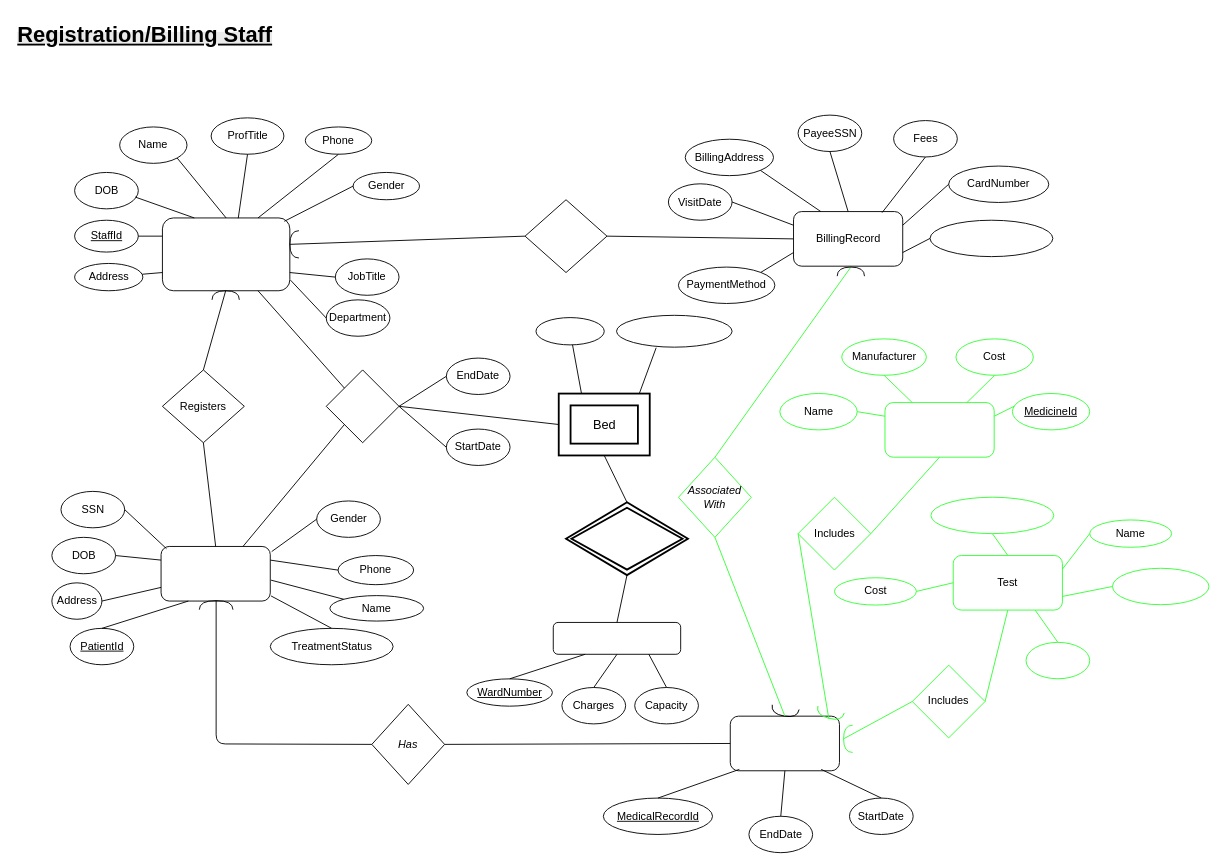
Some shapes in this 1225 by 868 pixel diagram are drawn without their labels. Here are the shapes that lost their labels. From the top down, the box of each, then its label:
(162, 217, 290, 291): Staff
(524, 199, 607, 273): Generates
(929, 219, 1053, 257): BillingRecordId
(535, 317, 604, 345): BedId
(616, 314, 732, 347): AvailabilityStatus
(325, 369, 399, 443): Checks-in
(884, 402, 994, 457): Medicine
(930, 496, 1054, 534): DiagnosticResult
(565, 501, 688, 576): Belongs To
(160, 546, 270, 601): Patient
(1112, 567, 1209, 605): TestID
(552, 622, 681, 654): Ward
(1025, 641, 1090, 679): Lab
(729, 715, 839, 771): MedicalRecord
